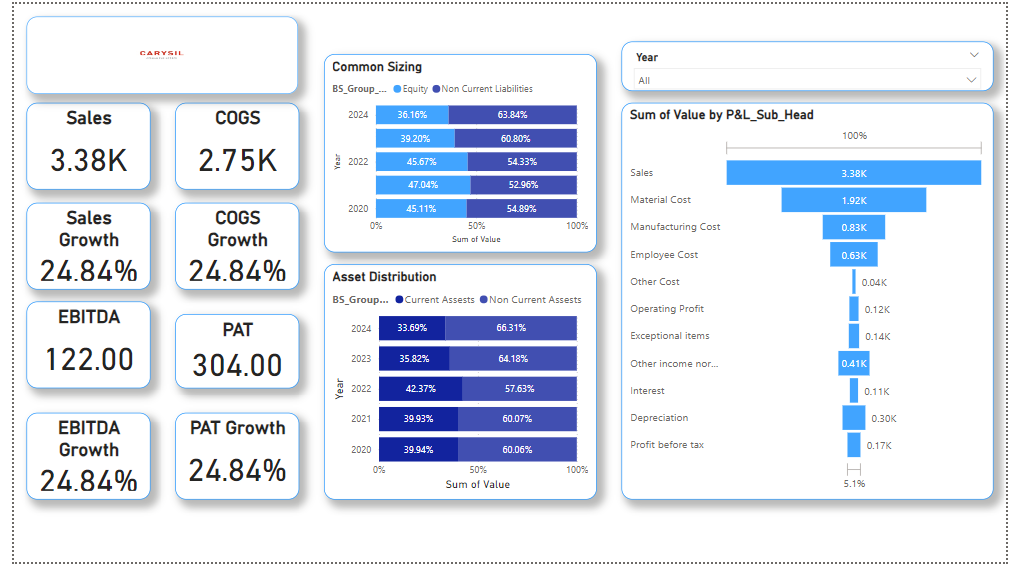

The dashboard page shown, as its layout file describes it:
{"tool":"powerbi","page":{"name":"Summary","canvas":[1280,720],"ordinal":1},"visuals":[{"type":"slicer","fields":{"Values":["Date Dim.Year"]},"box":[784,48,480,64],"z":0},{"type":"card","title":"Sales","fields":{"Values":["Sum(P&L Fact.Value)"]},"box":[16,128,160,112],"z":1000},{"type":"card","title":"Sales Growth","fields":{"Values":["P&L Fact.% Change"]},"box":[16,256,160,112],"z":2000},{"type":"card","title":"COGS","fields":{"Values":["Sum(P&L Fact.Value)"]},"box":[208,128,160,112],"z":3000},{"type":"card","title":"EBITDA Growth","fields":{"Values":["P&L Fact.% Change"]},"box":[16,528,160,112],"z":4000},{"type":"card","title":"EBITDA","fields":{"Values":["P&L Fact.Actual Value"]},"box":[16,384,160,112],"z":5000},{"type":"card","title":"PAT Growth","fields":{"Values":["P&L Fact.% Change"]},"box":[208,528,160,112],"z":6000},{"type":"card","title":"COGS Growth","fields":{"Values":["P&L Fact.% Change"]},"box":[208,256,160,112],"z":7000},{"type":"hundredPercentStackedBarChart","title":"Asset Distribution","fields":{"Category":["Date Dim.Date.Variation.Date Hierarchy.Year"],"Y":["Sum(BS Fact.Value)"],"Series":["BS Fact.BS_Group_Head"]},"box":[400,336,352,304],"z":8000},{"type":"hundredPercentStackedBarChart","title":"Common Sizing","fields":{"Category":["Date Dim.Date.Variation.Date Hierarchy.Year"],"Y":["Sum(BS Fact.Value)"],"Series":["BS Fact.BS_Group_Head"]},"box":[400,64,352,256],"z":9000},{"type":"funnel","fields":{"Category":["P&L Dim.P&L_Sub_Head"],"Y":["Sum(P&L Fact.Value)"]},"box":[784,128,480,512],"z":10000},{"type":"card","title":"PAT","fields":{"Values":["Sum(P&L Fact.Value)"]},"box":[208,400,160,96],"z":11000},{"type":"image","box":[16,16,350,100],"z":11001}]}

Visuals, with their boxes in screenshot pixels (x1, y1, x2, y2), scaled from the page's 1280x720 canvas onto the 1017x574 screenshot:
slicer - Date Dim.Year: x1=623 y1=38 x2=1004 y2=89
"Sales" card: x1=13 y1=102 x2=140 y2=191
"Sales Growth" card: x1=13 y1=204 x2=140 y2=293
"COGS" card: x1=165 y1=102 x2=292 y2=191
"EBITDA Growth" card: x1=13 y1=421 x2=140 y2=510
"EBITDA" card: x1=13 y1=306 x2=140 y2=395
"PAT Growth" card: x1=165 y1=421 x2=292 y2=510
"COGS Growth" card: x1=165 y1=204 x2=292 y2=293
"Asset Distribution" hundredPercentStackedBarChart: x1=318 y1=268 x2=597 y2=510
"Common Sizing" hundredPercentStackedBarChart: x1=318 y1=51 x2=597 y2=255
funnel - P&L Dim.P&L_Sub_Head x Sum(P&L Fact.Value): x1=623 y1=102 x2=1004 y2=510
"PAT" card: x1=165 y1=319 x2=292 y2=395
image: x1=13 y1=13 x2=291 y2=92
